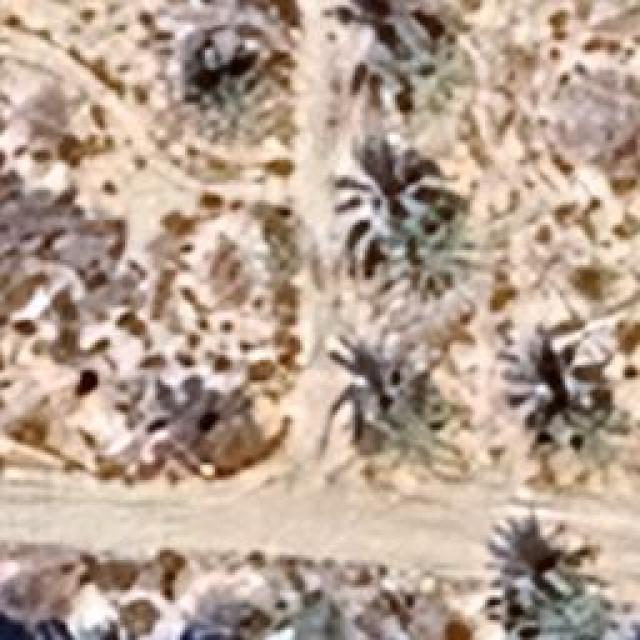PalmTree: (325, 138, 450, 278), (508, 338, 632, 476), (341, 352, 459, 472), (348, 0, 452, 120), (495, 554, 610, 628), (188, 59, 276, 139)
